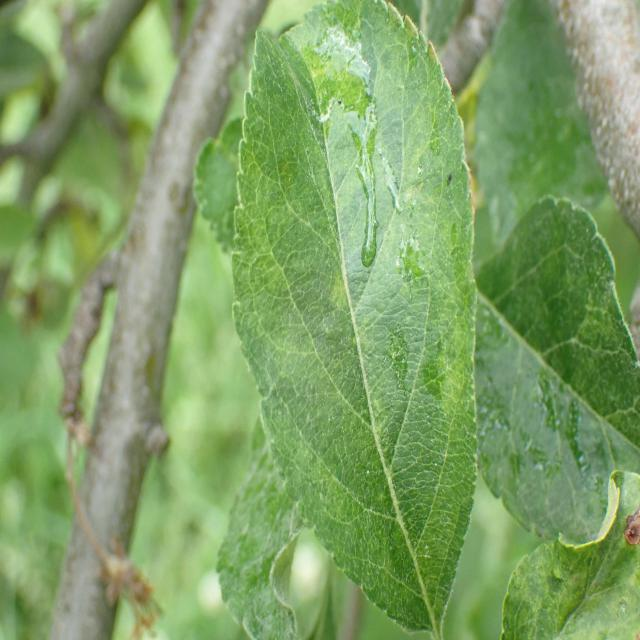scab: (242, 89, 464, 602)
